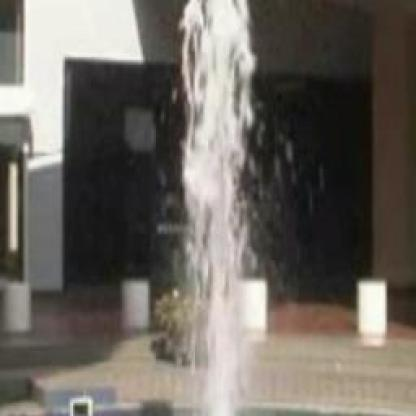other: (148, 222, 286, 413)
